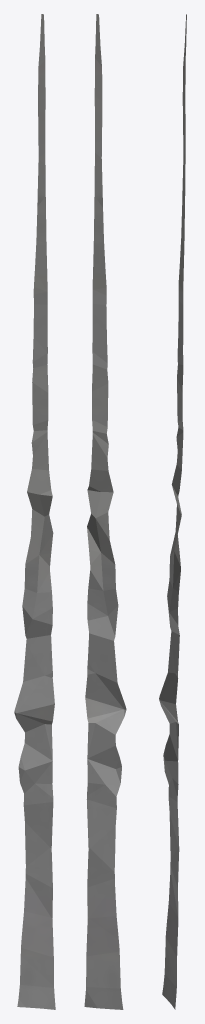
3 views of the same model, side by side, from view 1: azimuth 30°, elevation 25°; view 2: azimuth 210°, elevation 25°; view 3: azimuth 330°, elevation 25° (orthographic).
Size of the model in its own units: 0.0512 by 1.67 by 0.0388.
Materials: 1 (1 with a texture image).
